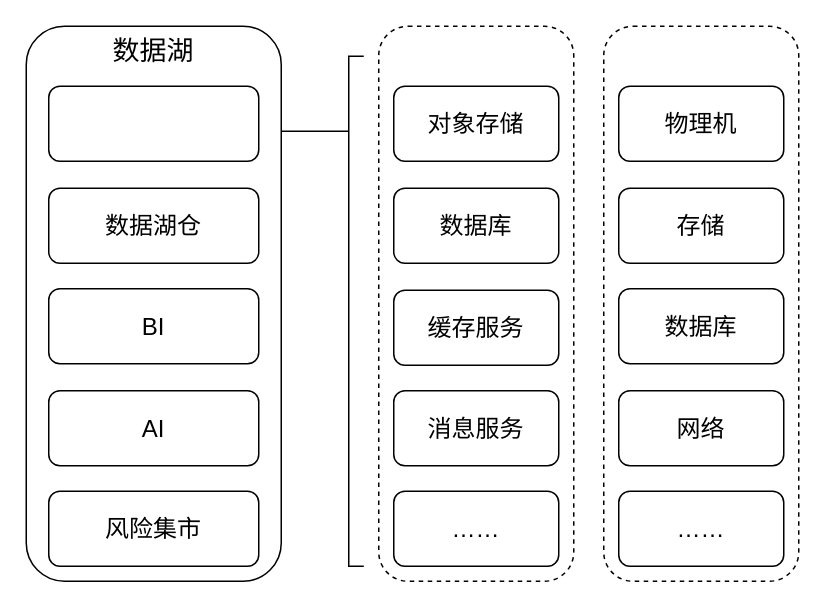
The diagram is 825 pixels wide and 608 high, and some of its shapes have lost their labels. Here are the shapes that lost their labels. From the top down, the box of each, then its label:
(47, 85, 259, 161): Severless平台
(377, 25, 574, 581): BaaS
(602, 25, 799, 581): 基础设施
